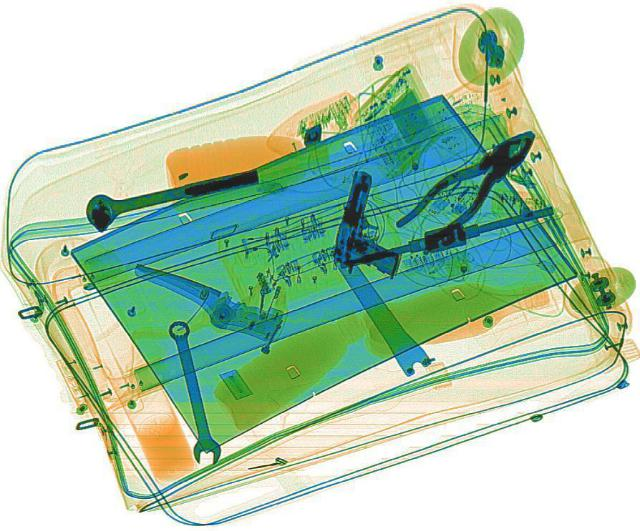Gun: (326, 167, 420, 278)
Pliers: (390, 115, 552, 249)
Wrench: (163, 317, 223, 467)
